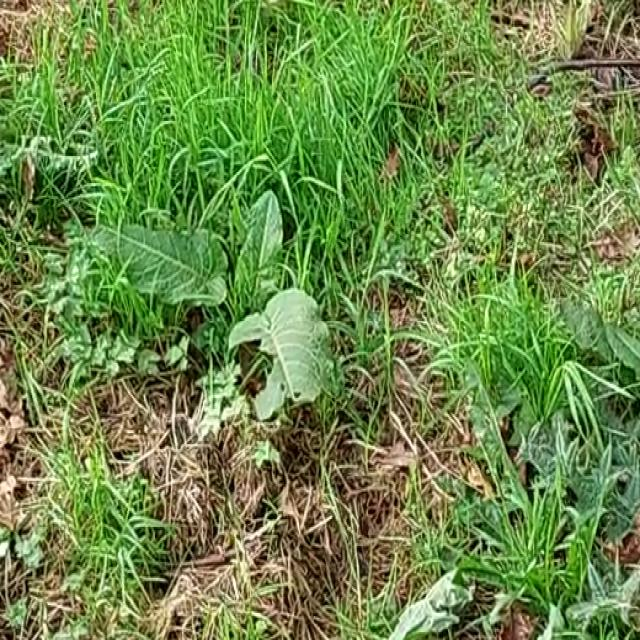organic waste: (69, 138, 379, 492)
